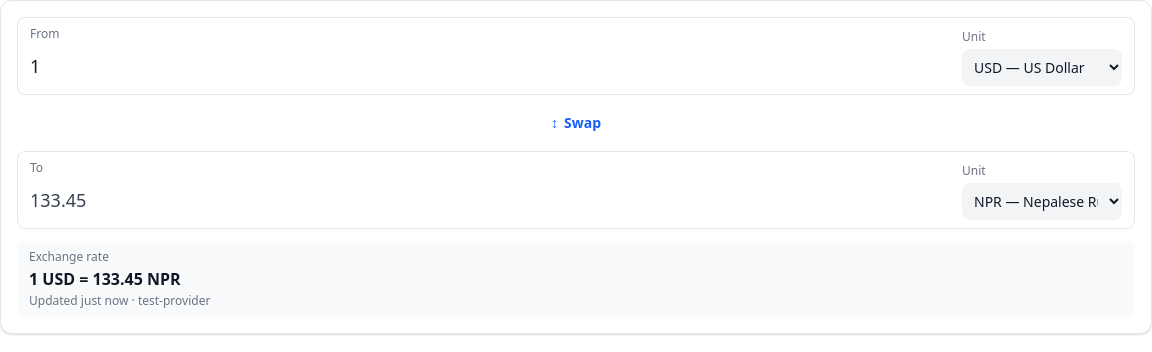
Test: Converter (currency path) › recomputes as the amount changes
This screenshot has width=1152, height=352.
Check: the field labelled "To" holds "133.45", box [30,180,950,220]
Replace the text in the field labelled "From" with "10": (490, 66) [30,46,950,86]
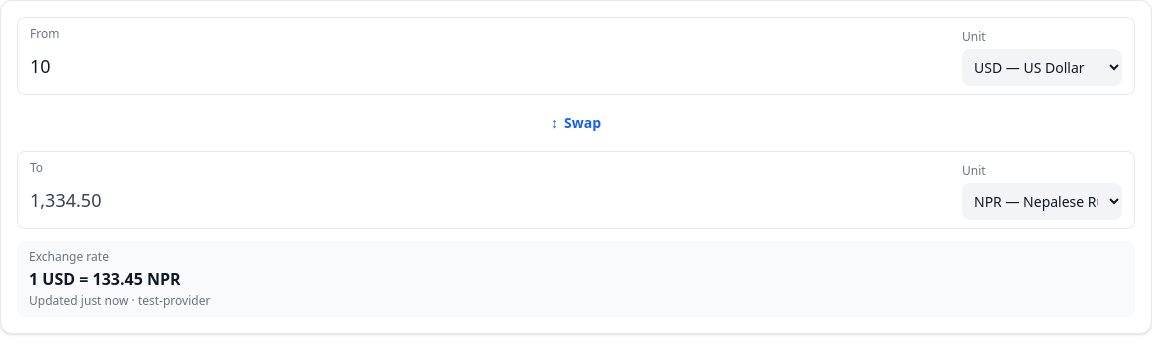
Check: the field labelled "To" holds "1,334.50", box [30,180,950,220]
